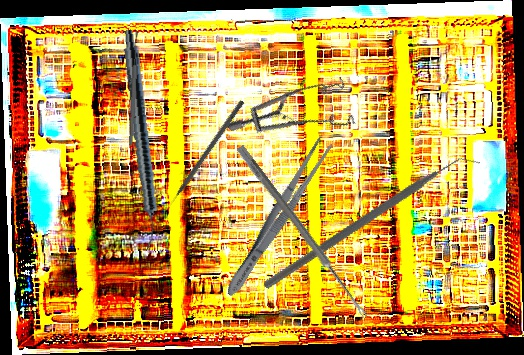Chopper: (263, 101, 481, 348)
Dressing Forceps: (220, 134, 336, 301)
Handpiece: (117, 29, 164, 251)
Hook Surgical: (161, 99, 246, 214)
Speculum: (225, 48, 370, 188)
Surgical Spoon: (235, 144, 370, 320), (128, 30, 140, 146)
